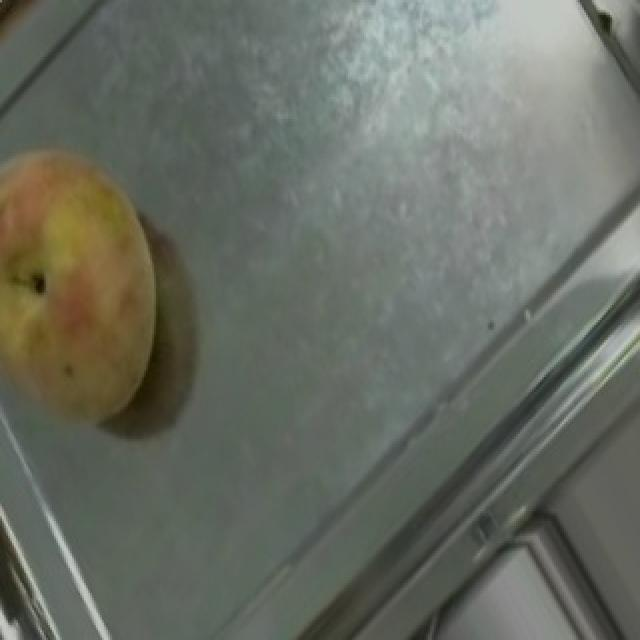Fruit: (2, 104, 204, 467)
